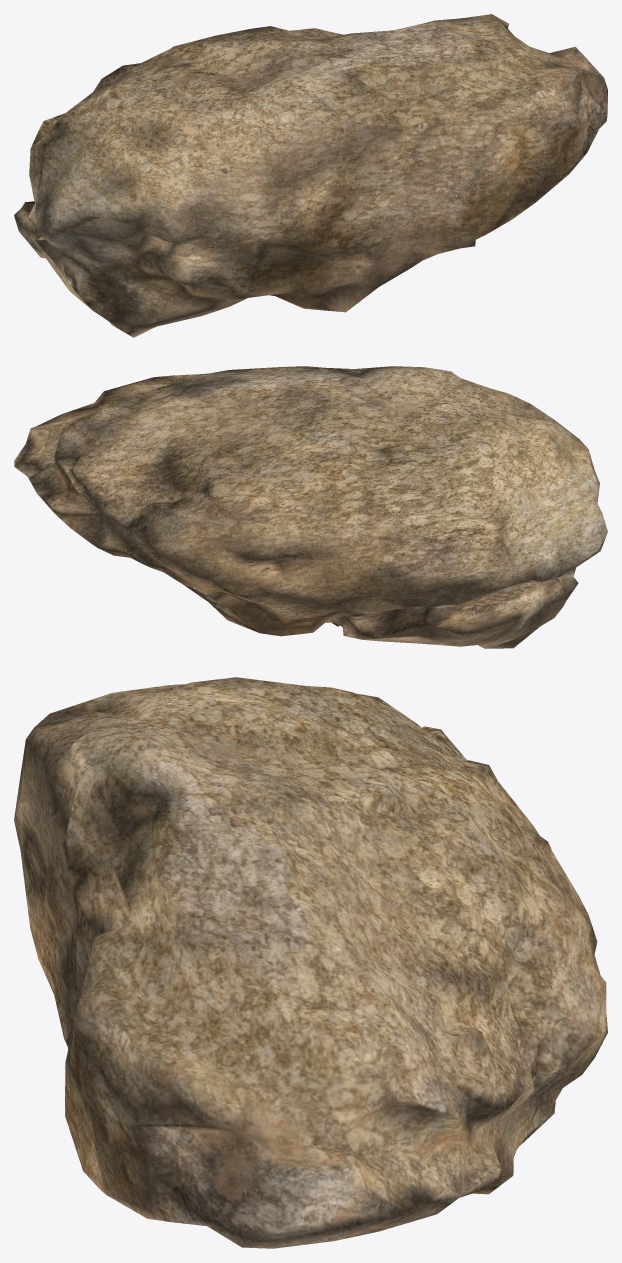
Rendered from boulder_c.glb.
3 views of the same model, one above another, from view 1: azimuth 30°, elevation 25°; view 2: azimuth 150°, elevation 25°; view 3: azimuth 270°, elevation 25° (orthographic). The views are drawn at different scales.
Parts seen in each view (by area): view 1: namaqualand_boulder_05; view 2: namaqualand_boulder_05; view 3: namaqualand_boulder_05.
Boxes of the visible parts, left/top/right/bottom form: namaqualand_boulder_05: left=14, top=14, right=607, bottom=337; namaqualand_boulder_05: left=14, top=366, right=607, bottom=648; namaqualand_boulder_05: left=14, top=677, right=607, bottom=1248.
Bounding box in the file's own units: 1.36 × 0.5337 × 0.7439.
Materials: 1 (1 with a texture image).
